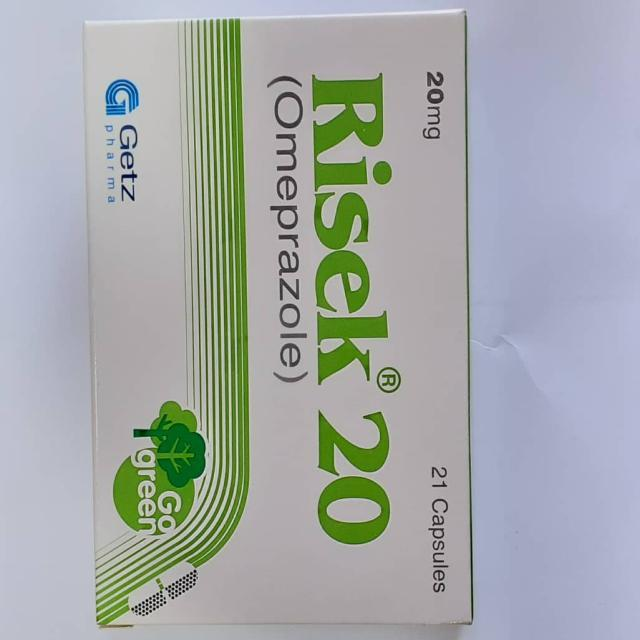drug-name: (311, 64, 403, 550)
